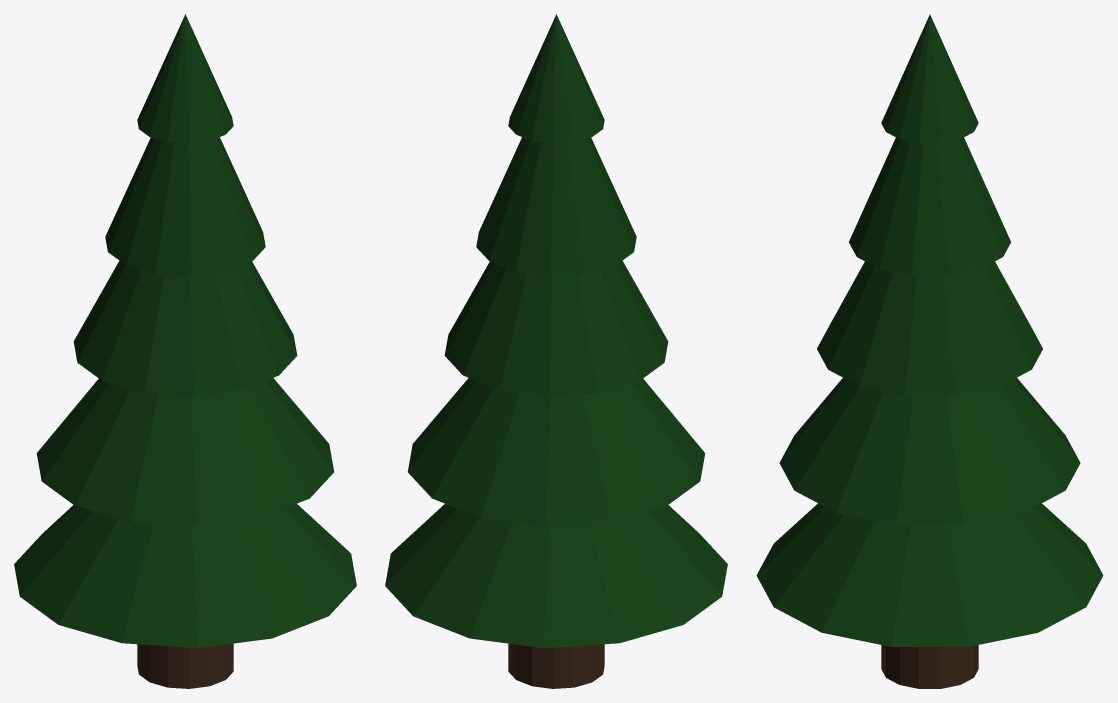
File: treh.fbx
3 views of the same model, side by side, from view 1: azimuth 30°, elevation 25°; view 2: azimuth 150°, elevation 25°; view 3: azimuth 270°, elevation 25° (orthographic).
Parts seen in each view (by area): view 1: Cylinder; view 2: Cylinder; view 3: Cylinder.
Boxes of the visible parts, box(x1,y1,x2,y2) form: Cylinder: box(14, 14, 356, 688); Cylinder: box(385, 14, 727, 688); Cylinder: box(756, 14, 1103, 688).
Bounding box in the file's own units: 693 × 1480 × 711.
